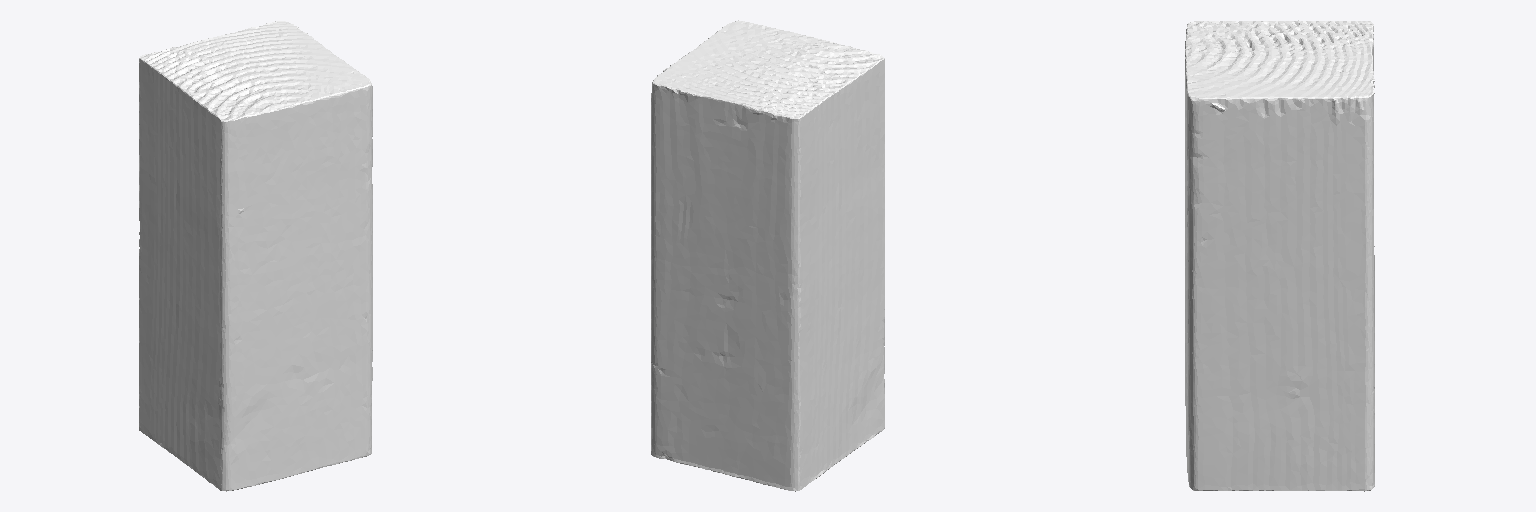
URDF robot description (wood_block):
<robot name="wood_block">
    <link name="base_link">
        <visual>
            <origin xyz="-0.0 -0.0 -0.0" rpy="0.0 0.0 0.0" />
            <geometry>
                <mesh filename="wood_block/textured.obj" scale="1 1 1" />
            </geometry>
            <material name="texture">
                <color rgba="1.0 1.0 1.0 1.0" />
            </material>
        </visual>
        <collision>
            <origin xyz="-0.0 -0.0 -0.0" rpy="0.0 0.0 0.0" />
            <geometry>
                <mesh filename="wood_block/textured_coacd_0.stl" scale="1 1 1" />
            </geometry>
        </collision>
        <inertial>
            <mass value="0.729" />
            <inertia ixx="1e-3" ixy="0.0" ixz="0.0" iyy="1e-3" iyz="0.0" izz="1e-3" />
        </inertial>
    </link>
</robot>

--- Render facts (derived) ---
Views: 3 orthographic renders of the robot side by side, from view 1: azimuth 30°, elevation 25°; view 2: azimuth 150°, elevation 25°; view 3: azimuth 270°, elevation 25°.
Model wood_block with 1 links and 0 joints (none), rooted at base_link, posed all joints at 0.
Links seen in each view (by area): view 1: base_link; view 2: base_link; view 3: base_link.
Link boxes in pixels (x1,y1,x2,y2): base_link: [139, 21, 372, 491]; base_link: [651, 20, 884, 491]; base_link: [1185, 20, 1374, 491].
Size in the robot's own frame: 0.0893 by 0.0898 by 0.2061 metres.
1 mesh visuals loaded from 1 distinct referenced files (1 OBJ).